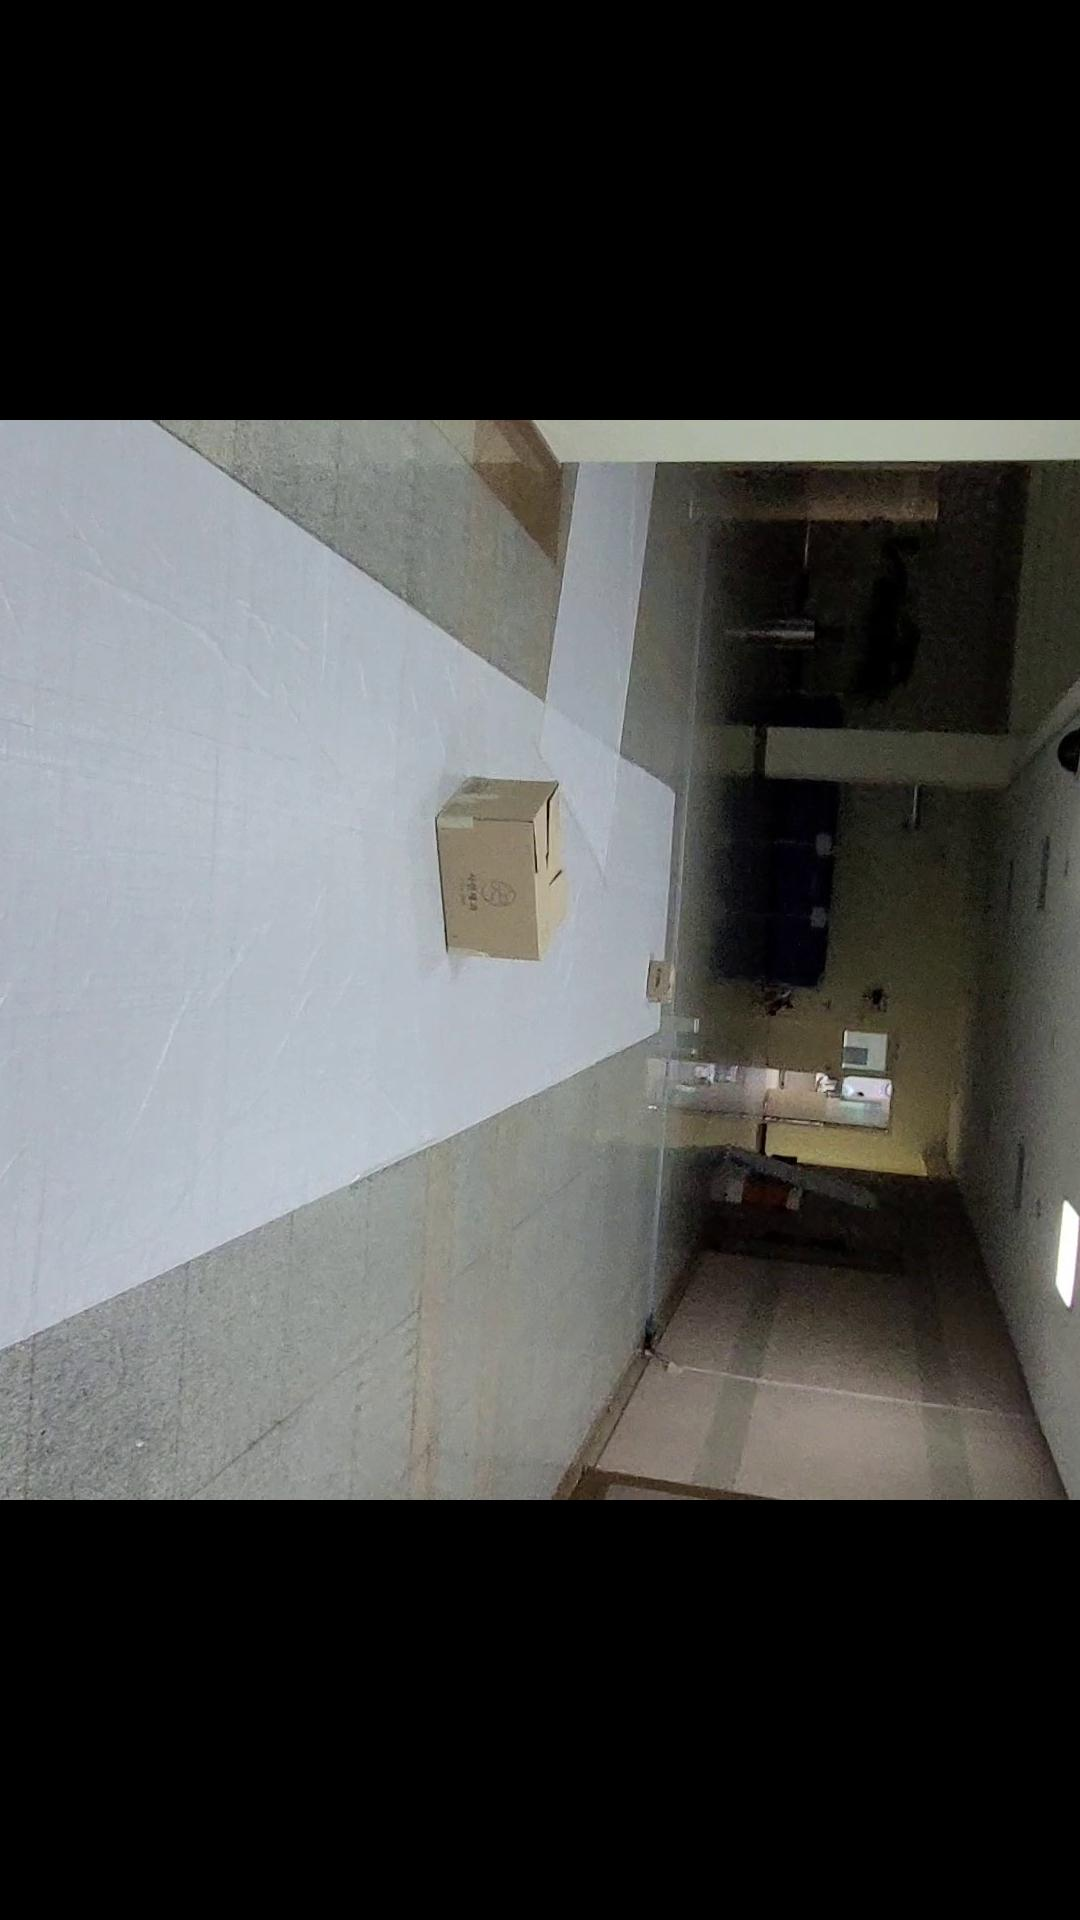Box: (390, 761, 585, 990), (611, 936, 698, 1029)
